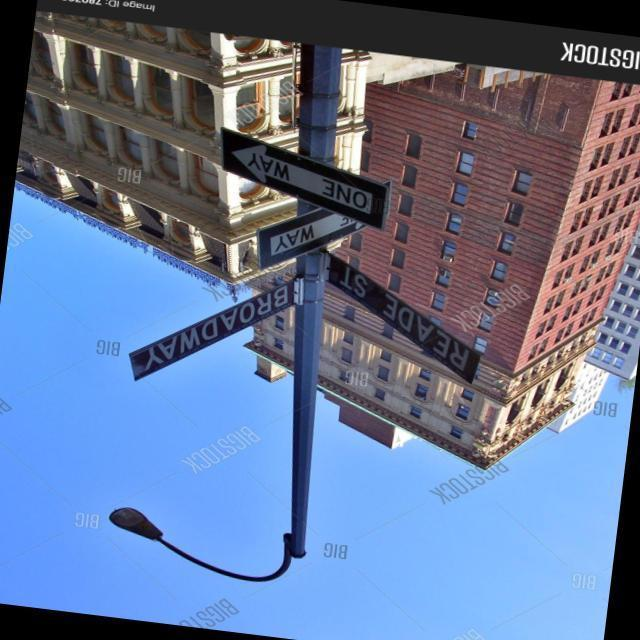off: (80, 485, 392, 602)
